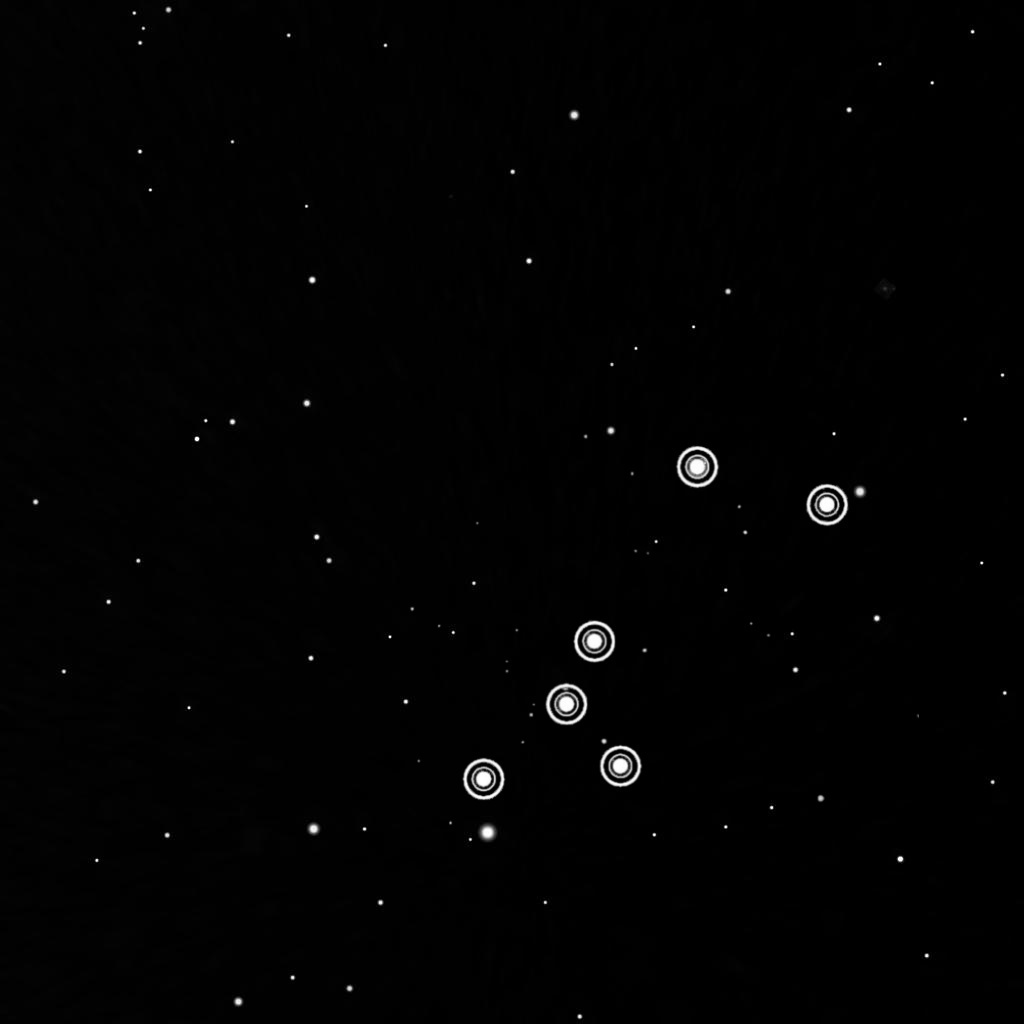canis_major: (453, 434, 862, 804)
